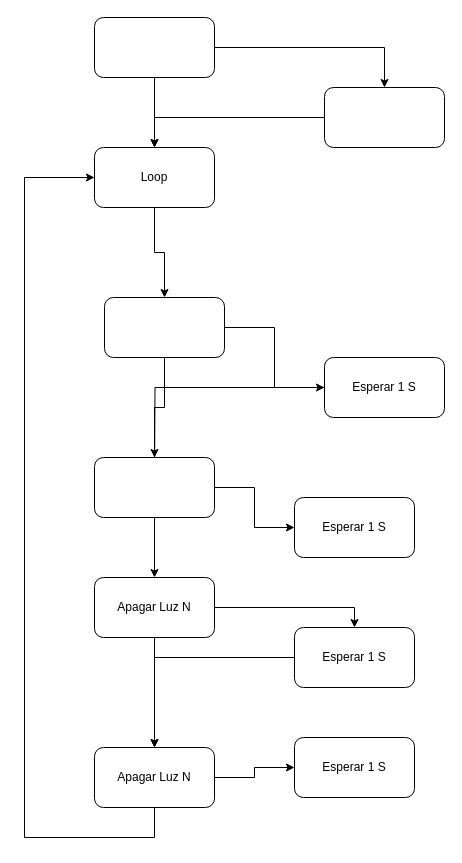
Image size: 462x863. Some labels were removed from this diagram. The box of each missing label's shape, as (x1, y1, x2, y2) in pixels:
Definir 5 pines de salida: (324, 86, 444, 148)
Enceder Luz N: (94, 456, 214, 518)
Encerder Luz 1: (104, 296, 224, 358)
Setup: (94, 16, 214, 78)
